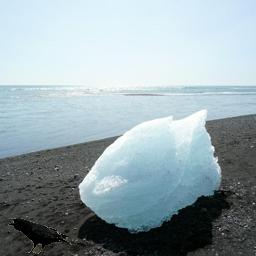Crow: (8, 218, 72, 255)
